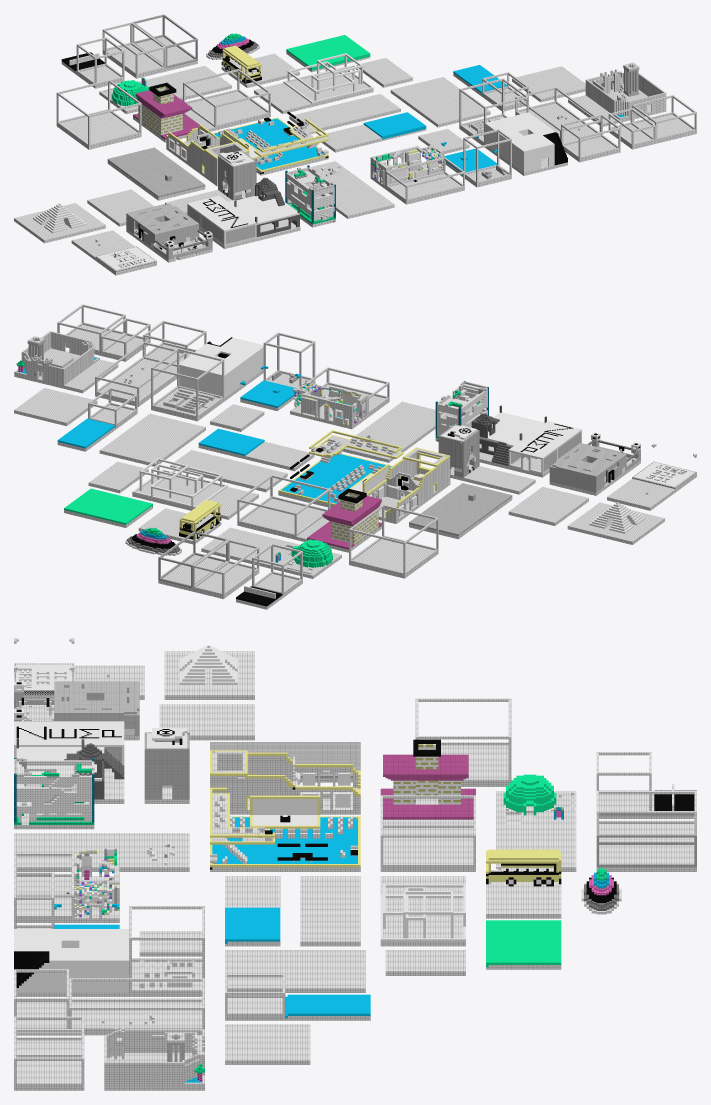
File: NorthPole-v2.glb
The picture shows the model from 3 angles, top to bottom: view 1: azimuth 30°, elevation 25°; view 2: azimuth 150°, elevation 25°; view 3: azimuth 270°, elevation 25°; orthographic projection. The views are drawn at different scales.
Parts seen in each view (by area): view 1: solid-voxels_20.016; view 2: solid-voxels_20.016; view 3: solid-voxels_20.016.
Boxes of the visible parts, x1,y1,x2,y2 form: solid-voxels_20.016: (14, 14, 696, 275); solid-voxels_20.016: (14, 304, 696, 609); solid-voxels_20.016: (14, 638, 696, 1090).
Size of the model in its own units: 205 by 13 by 136.
Materials: 1 (1 with a texture image).
